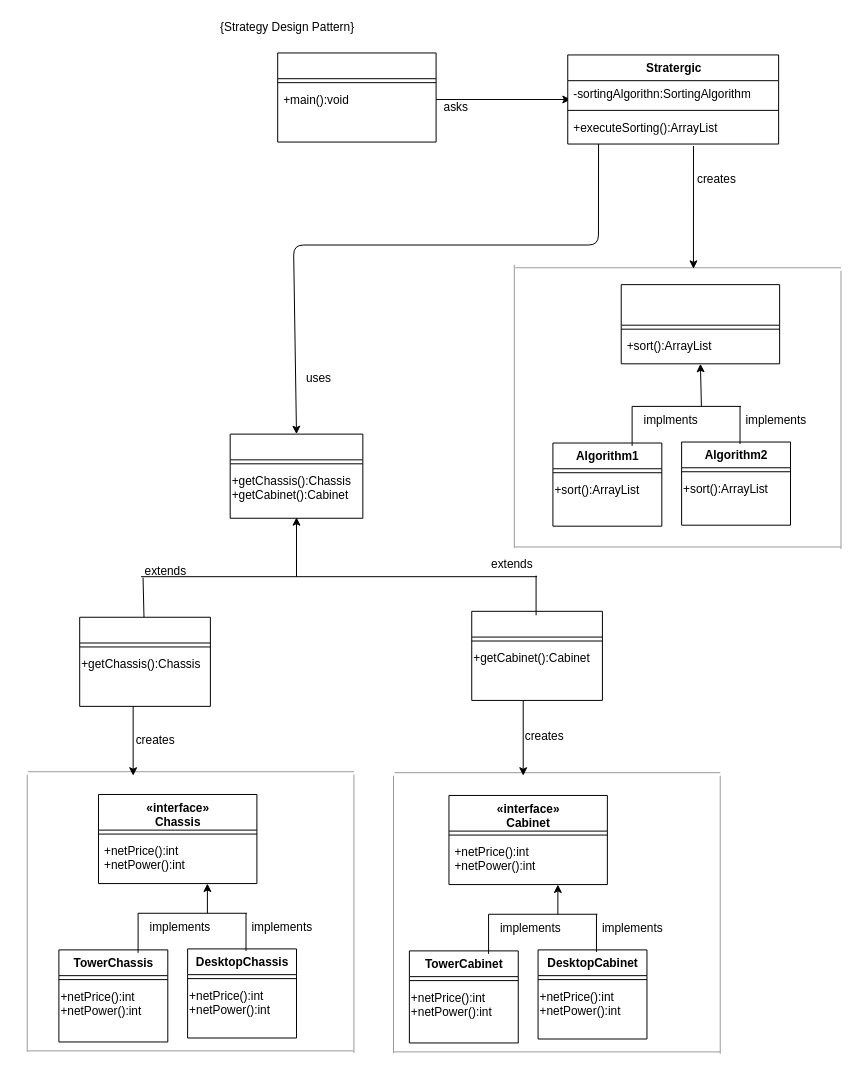
Some shapes in this 868 by 1079 pixel diagram are drawn without their labels. Here are the shapes that lost their labels. From the top down, the box of each, then its label:
(277, 52, 436, 142): SortMain
(620, 284, 780, 364): <<interface>> SortingAlgorithm
(229, 433, 363, 518): PC
(79, 616, 210, 706): ChassisFactory
(471, 610, 602, 700): CabinetFactory
